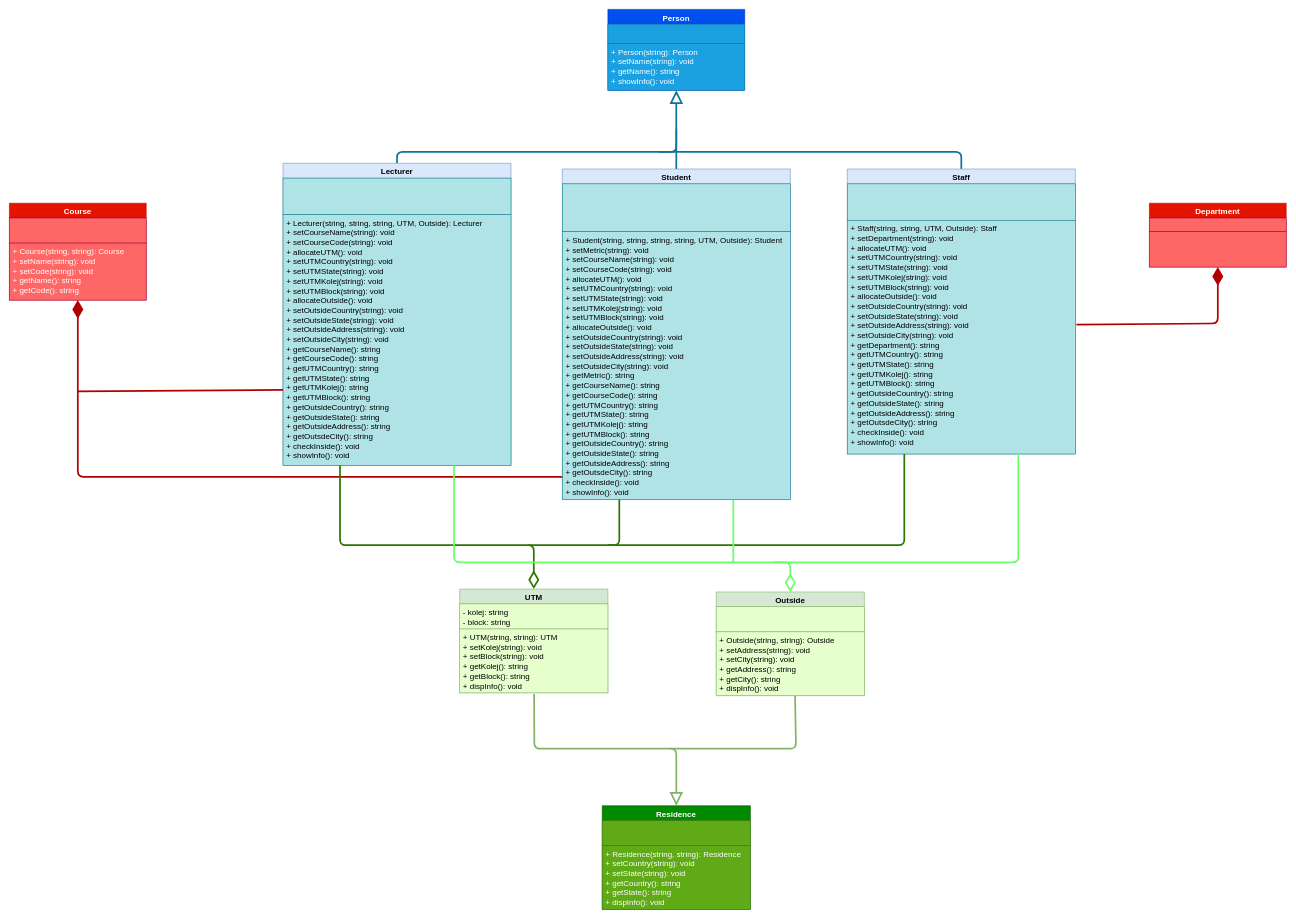
Some shapes in this 1296 by 919 pixel diagram are drawn without their labels. The centre of each missing label's shape, as x and y in pixels:
# country: string # state: string: the point at 676,833
# name: string: the point at 676,34
+ Department(string): Department + setName(string): void + getName(): string: the point at 1217,249
- address: string - city: string: the point at 790,619
- course: Course - kolej: UTM* - address: Outside*: the point at 396,196
- department: Department - kolej: UTM* - address: Outside*: the point at 961,201
- metric: string - course: Course - kolej: UTM* - address: Outside*: the point at 676,207
- name: string: the point at 1217,224
- name: string - code: string: the point at 77,230
